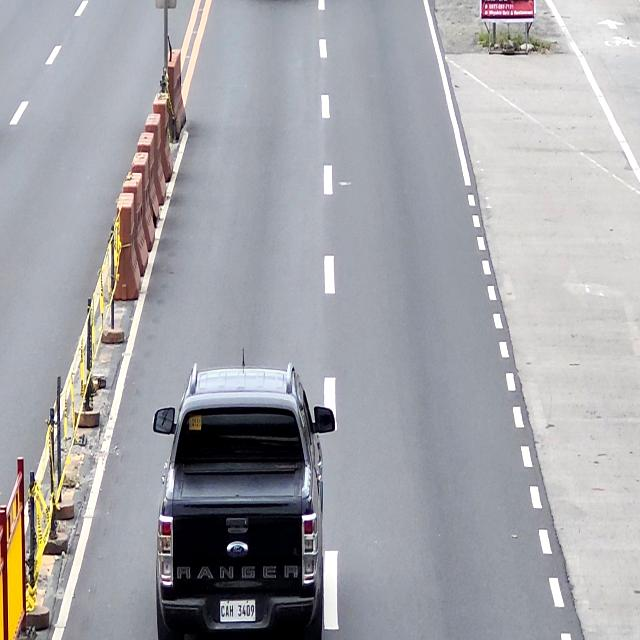Car: (153, 364, 335, 640)
License-Plate: (220, 599, 256, 623)
